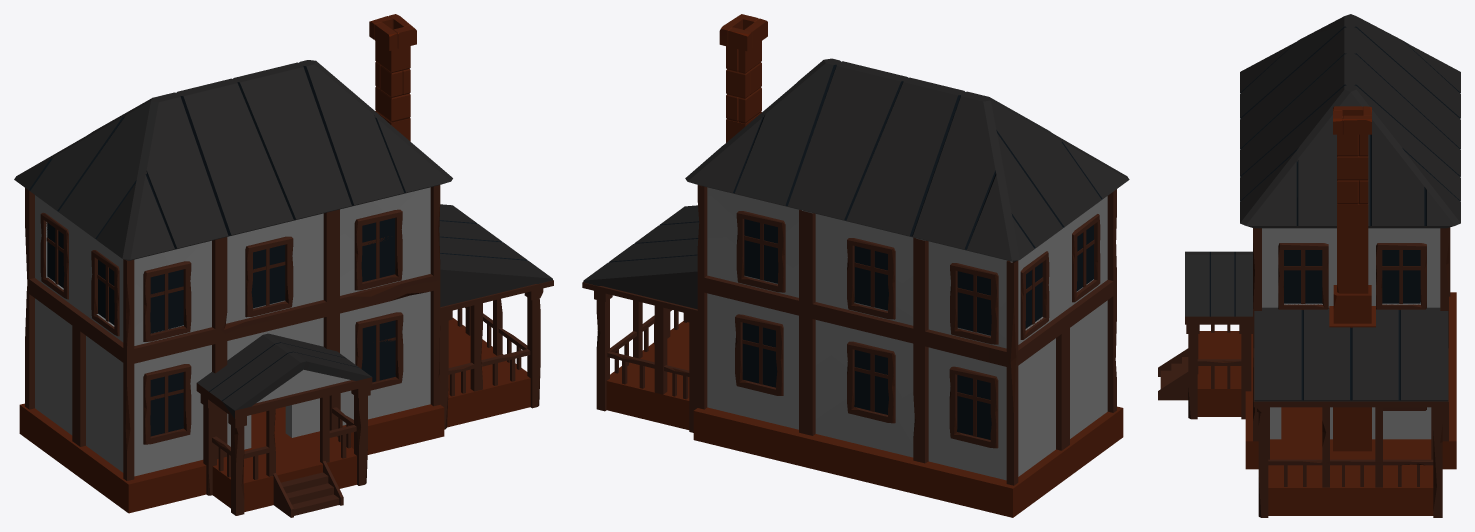
File: House_2_1.fbx
3 renders of one model, left to right at view 1: azimuth 30°, elevation 25°; view 2: azimuth 150°, elevation 25°; view 3: azimuth 270°, elevation 25°, orthographic. The views are drawn at different scales.
Parts seen in each view (by area): view 1: House_2_1; view 2: House_2_1; view 3: House_2_1.
Boxes of the visible parts, left/top/right/bottom form: House_2_1: left=14, top=14, right=553, bottom=517; House_2_1: left=582, top=14, right=1129, bottom=517; House_2_1: left=1158, top=14, right=1460, bottom=517.
Bounding box in the file's own units: 326 × 265 × 203.
